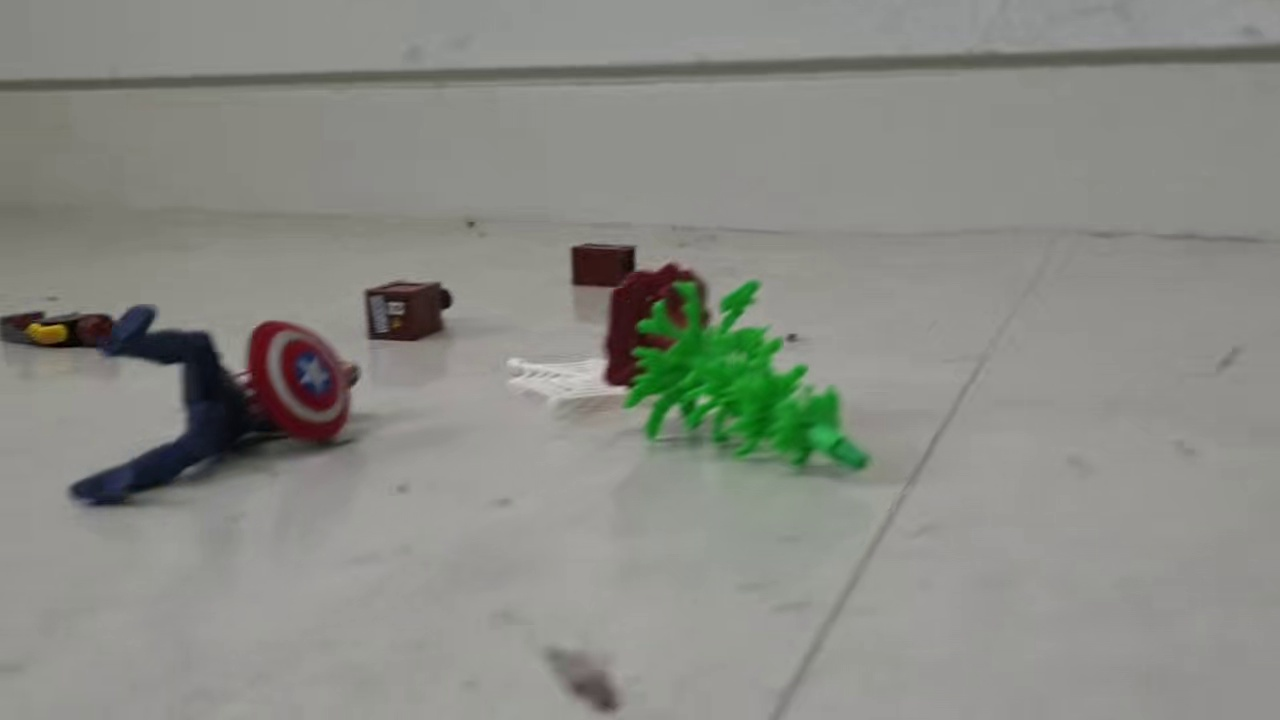box: (360, 280, 456, 343), (566, 241, 644, 287)
people: (68, 300, 363, 508), (1, 300, 116, 351)
tree: (603, 260, 877, 477)
web: (508, 353, 647, 406)
